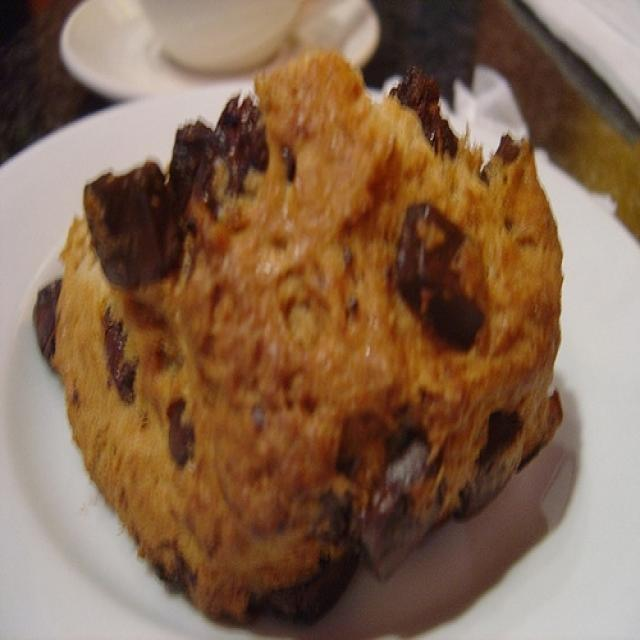面包点心: (13, 53, 595, 614)
